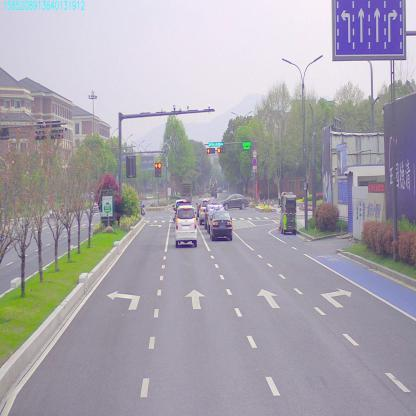traffic-light: (208, 140, 222, 146), (206, 146, 214, 154), (217, 148, 224, 152)
